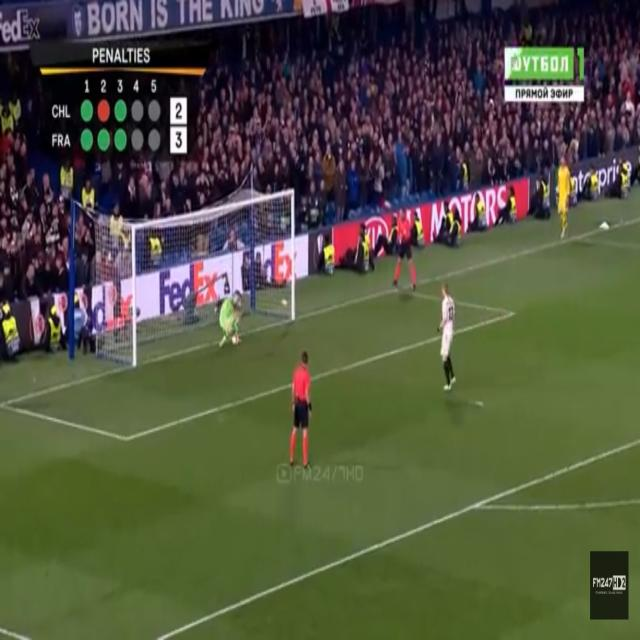right-top: (214, 192, 292, 212)
soccer-goal: (134, 191, 293, 370)
